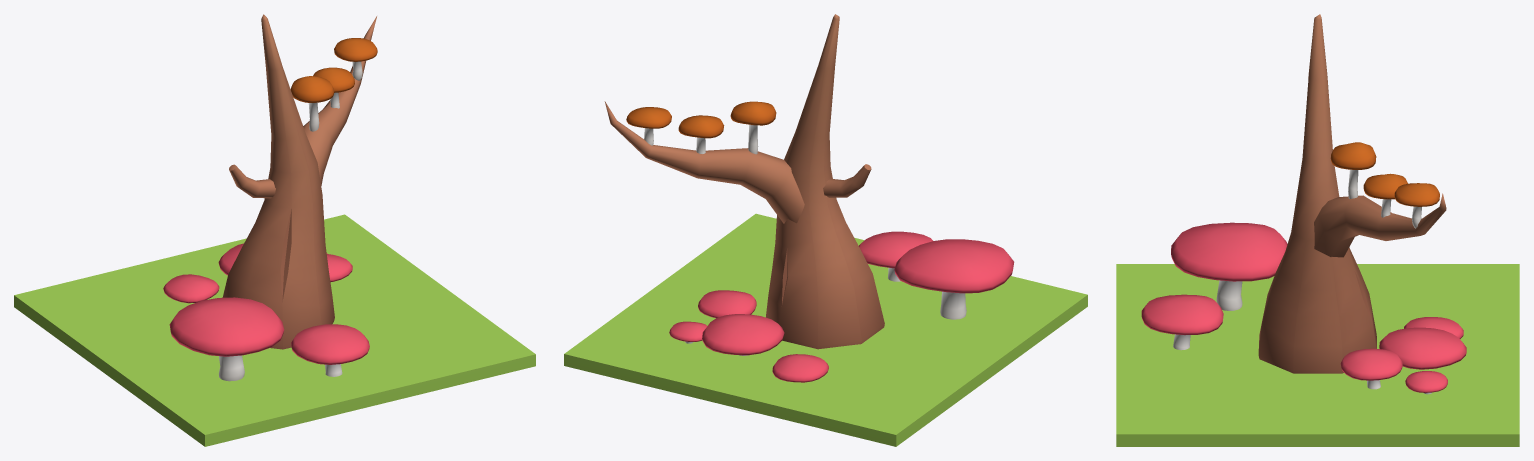
The model's file is mushroom.glb.
3 views of the same model, side by side, from view 1: azimuth 30°, elevation 25°; view 2: azimuth 150°, elevation 25°; view 3: azimuth 270°, elevation 25° (orthographic). The views are drawn at different scales.
Visible parts, largest first — view 1: Mushrooms; view 2: Mushrooms; view 3: Mushrooms.
Part boxes in pixels (left/top/right/bottom): Mushrooms: left=14, top=14, right=535, bottom=446; Mushrooms: left=564, top=14, right=1087, bottom=446; Mushrooms: left=1116, top=14, right=1519, bottom=446.
Size of the model in its own units: 0.29 by 0.297 by 0.29.
1 material, 1 textured.
